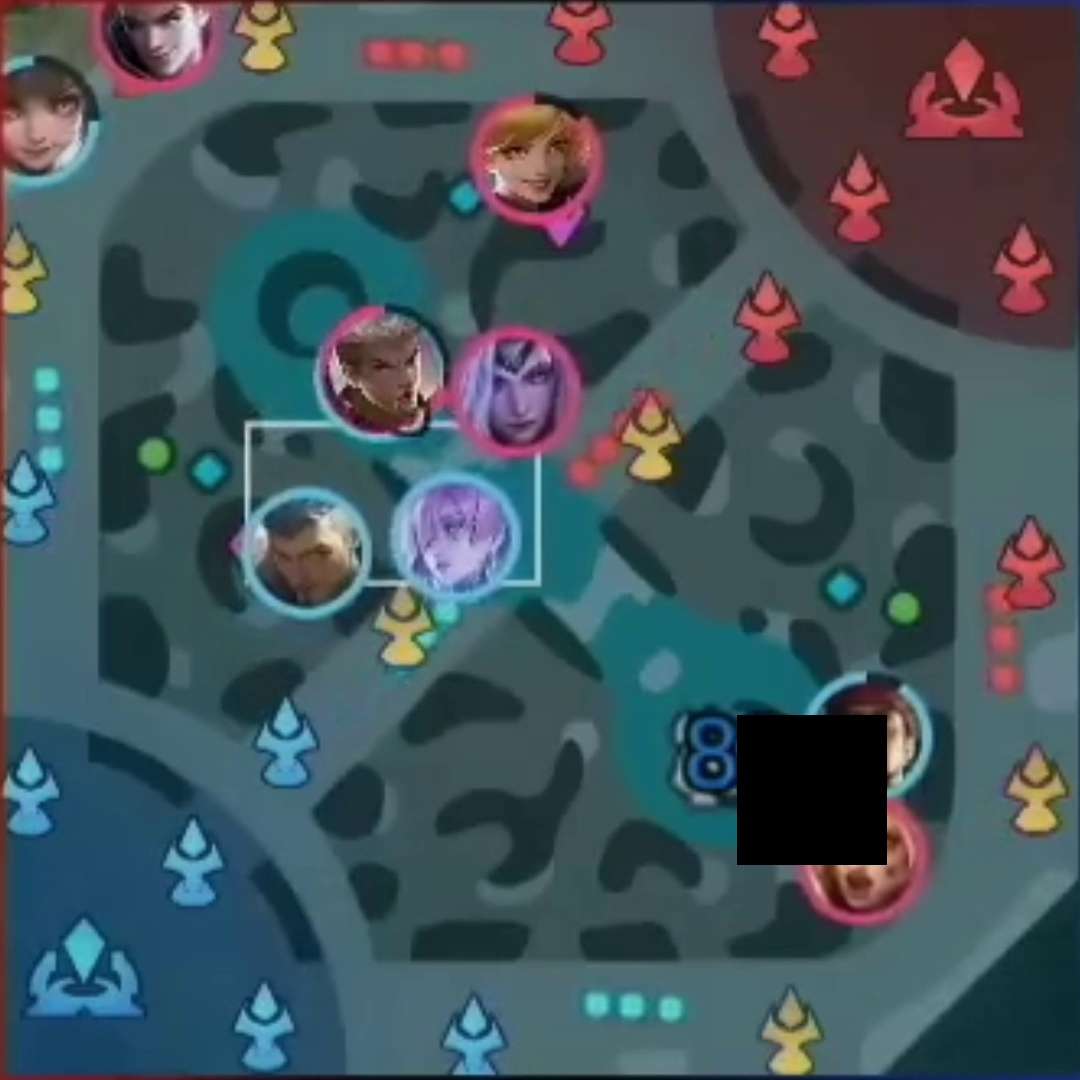Chou: (344, 321, 428, 410)
Claude: (113, 1, 201, 77)
Fanny: (486, 116, 583, 207)
Fredrinn: (265, 506, 349, 601)
Lapu-Lapu: (827, 691, 916, 784)
Masha: (823, 813, 908, 908)
Novaria: (412, 492, 491, 584)
Valentina: (470, 345, 558, 442)
Wanwan: (4, 66, 79, 168)
